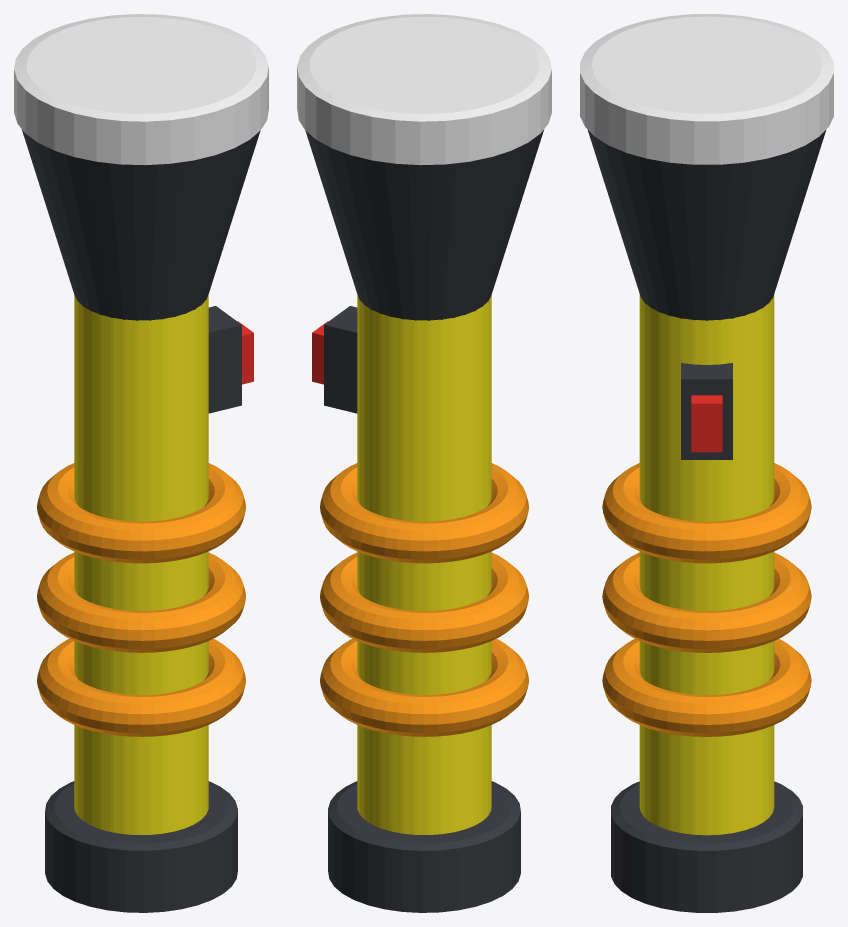
The model's file is Linterna.glb.
3 renders of one model, left to right at view 1: azimuth 30°, elevation 25°; view 2: azimuth 150°, elevation 25°; view 3: azimuth 270°, elevation 25°, orthographic.
Parts seen in each view (by area): view 1: Cuerpo_Linterna, Disco_Linterna, Sporte_Linterna1, Soporte_Linterna2, Arco_Linterna3, Arco_Linterna2, Arco_Linterna1, Interruptor_Linterna2, Interruptor_Linterna1; view 2: Cuerpo_Linterna, Disco_Linterna, Sporte_Linterna1, Soporte_Linterna2, Arco_Linterna3, Arco_Linterna2, Arco_Linterna1, Interruptor_Linterna2, Interruptor_Linterna1; view 3: Cuerpo_Linterna, Disco_Linterna, Sporte_Linterna1, Soporte_Linterna2, Arco_Linterna3, Arco_Linterna2, Arco_Linterna1, Interruptor_Linterna2, Interruptor_Linterna1.
Boxes of the visible parts, x1,y1,x2,y2 form: Cuerpo_Linterna: [74, 295, 208, 834]; Disco_Linterna: [14, 14, 268, 165]; Sporte_Linterna1: [21, 129, 260, 320]; Soporte_Linterna2: [45, 781, 237, 912]; Arco_Linterna3: [37, 463, 245, 563]; Arco_Linterna2: [37, 552, 245, 652]; Arco_Linterna1: [37, 638, 245, 736]; Interruptor_Linterna2: [208, 306, 241, 413]; Interruptor_Linterna1: [237, 321, 253, 384]; Cuerpo_Linterna: [357, 295, 491, 834]; Disco_Linterna: [297, 14, 551, 165]; Sporte_Linterna1: [305, 129, 544, 320]; Soporte_Linterna2: [328, 781, 520, 912]; Arco_Linterna3: [320, 463, 528, 563]; Arco_Linterna2: [320, 552, 528, 652]; Arco_Linterna1: [320, 638, 528, 736]; Interruptor_Linterna2: [324, 306, 357, 413]; Interruptor_Linterna1: [312, 321, 328, 384]; Cuerpo_Linterna: [639, 294, 774, 835]; Disco_Linterna: [580, 14, 833, 164]; Sporte_Linterna1: [588, 130, 825, 320]; Soporte_Linterna2: [611, 781, 802, 912]; Arco_Linterna3: [602, 463, 811, 563]; Arco_Linterna2: [602, 552, 811, 652]; Arco_Linterna1: [602, 639, 811, 736]; Interruptor_Linterna2: [681, 363, 732, 459]; Interruptor_Linterna1: [691, 395, 722, 452].
Size of the model in its own units: 1.13 by 3.98 by 1.13.
